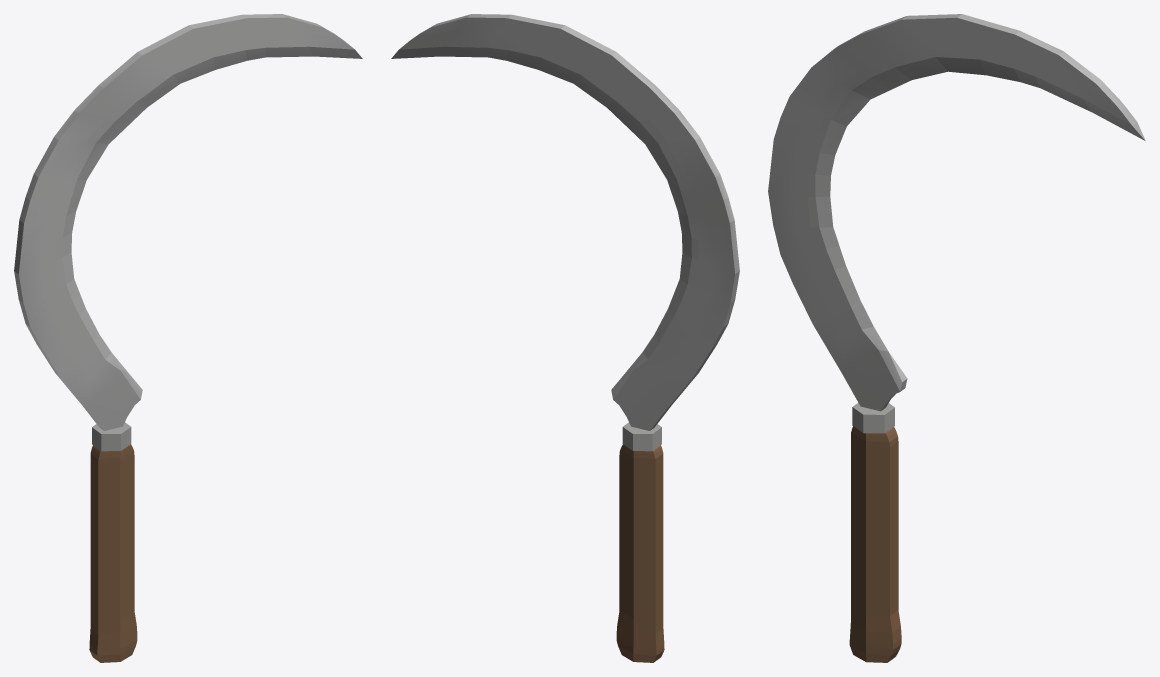
File: Sickle_1.glb
The picture shows the model from 3 angles, left to right: view 1: azimuth 30°, elevation 25°; view 2: azimuth 150°, elevation 25°; view 3: azimuth 330°, elevation 25°; orthographic projection. The views are drawn at different scales.
Visible parts, largest first — view 1: Sickle; view 2: Sickle; view 3: Sickle.
Boxes of the visible parts, x1=… form: Sickle: x1=14, y1=14, x2=362, y2=662; Sickle: x1=391, y1=14, x2=739, y2=662; Sickle: x1=768, y1=14, x2=1145, y2=662.
Size of the model in its own units: 1.04 by 1.75 by 0.0985.
